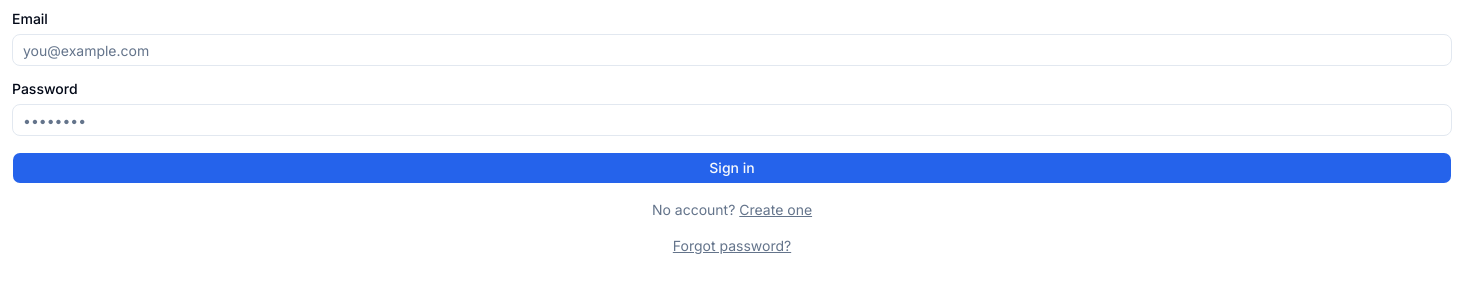
Test: LoginForm › shows error message when signIn throws
In the field labelled "Email": (732, 50) [12,34,1452,66], type "bad@example.com"
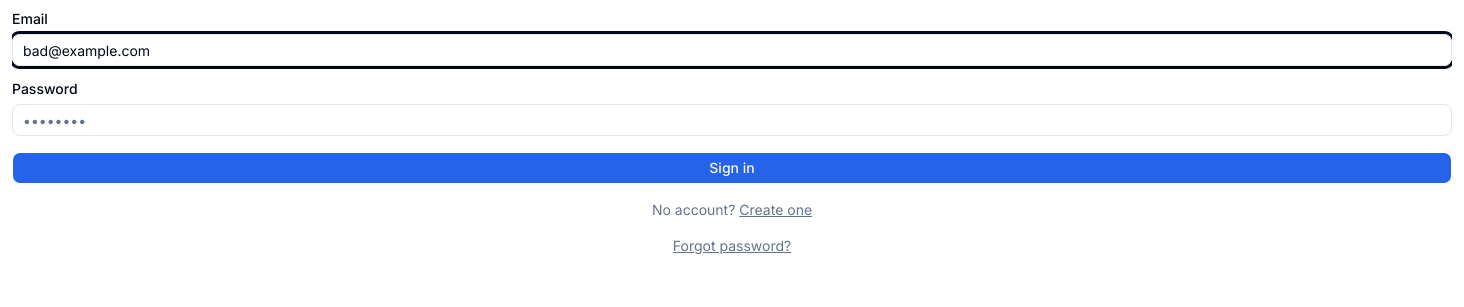
In the password field labelled "Password": (732, 120) [12,104,1452,136], type "wrong"
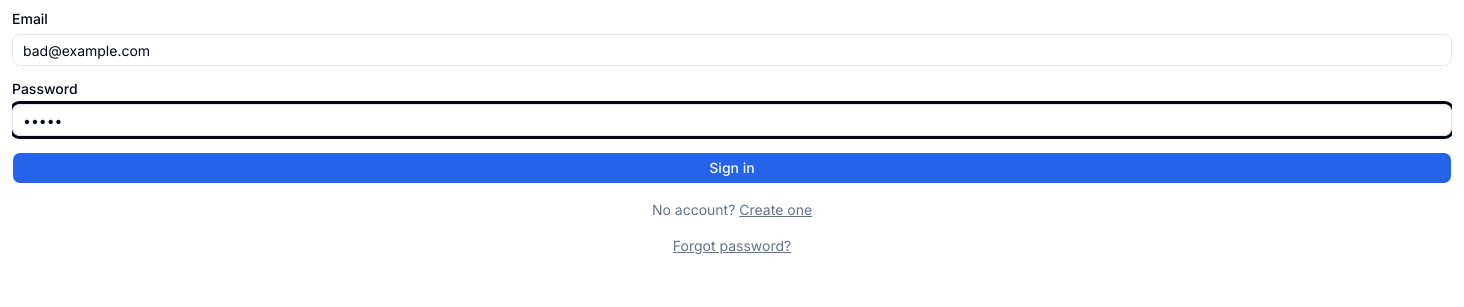
Click the button "Sign in": (732, 168) [12,152,1452,184]
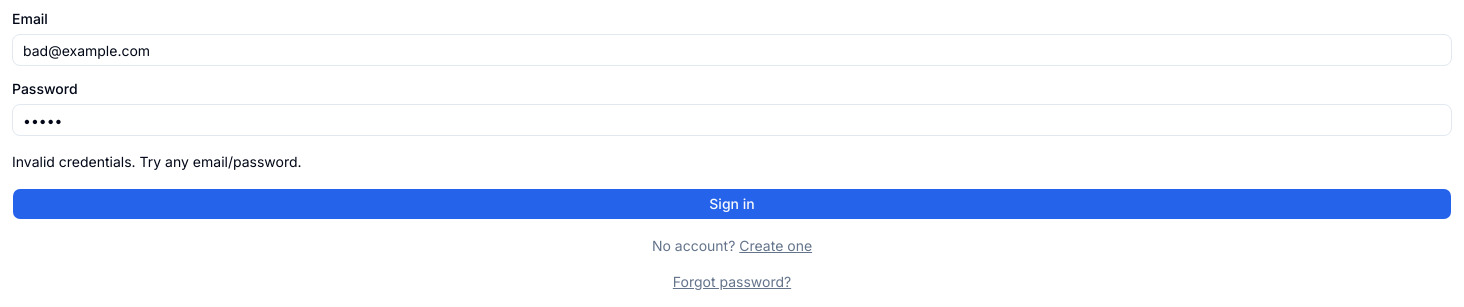
Now the text "Invalid credentials. Try any email/password." is shown, box [12,153,302,170]
